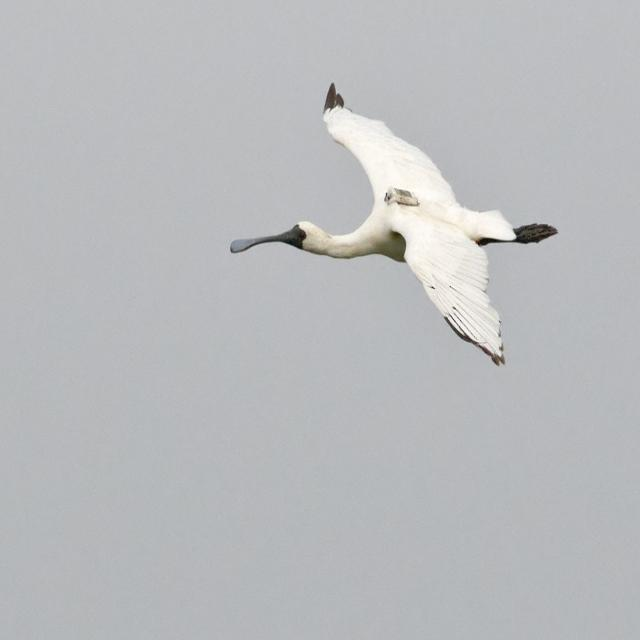Black-faced spoonbill: (232, 85, 556, 364)
